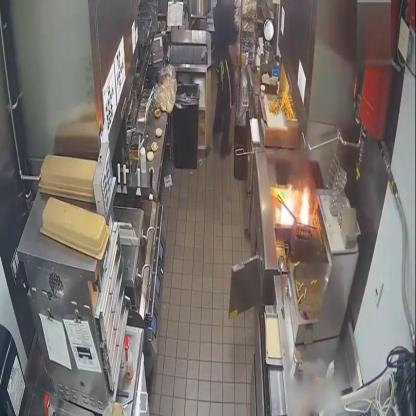fire: (277, 180, 315, 227)
